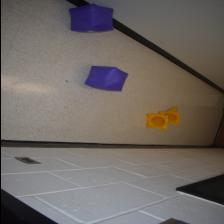cone: (158, 106, 180, 124), (145, 114, 167, 130)
cube: (68, 4, 113, 34), (83, 66, 128, 92)
